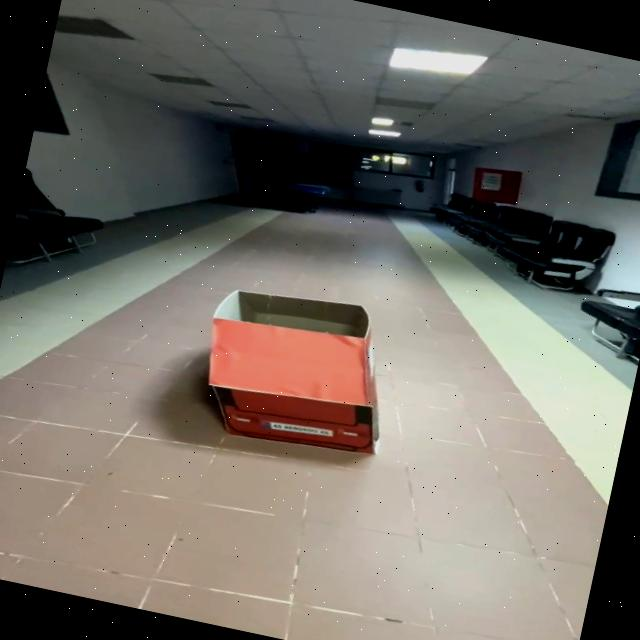red_car: (161, 258, 453, 483)
